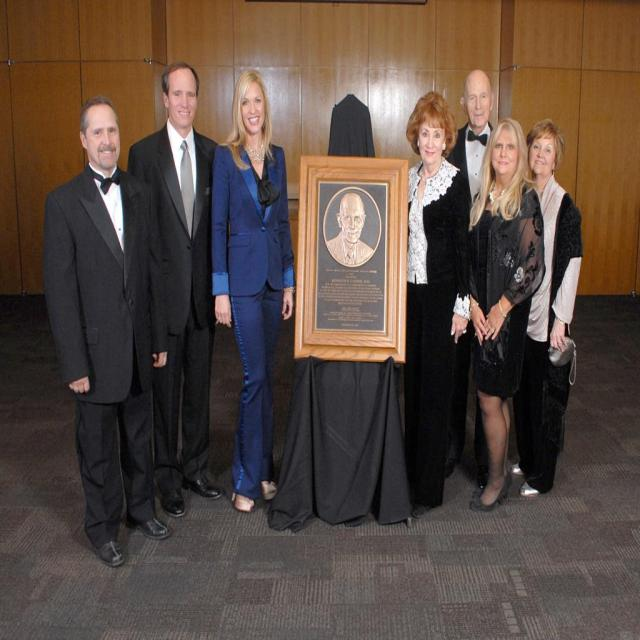Face: (78, 95, 129, 179), (489, 114, 528, 198), (414, 103, 454, 181), (158, 65, 199, 139), (237, 61, 275, 139), (528, 117, 564, 184), (464, 68, 496, 138)
